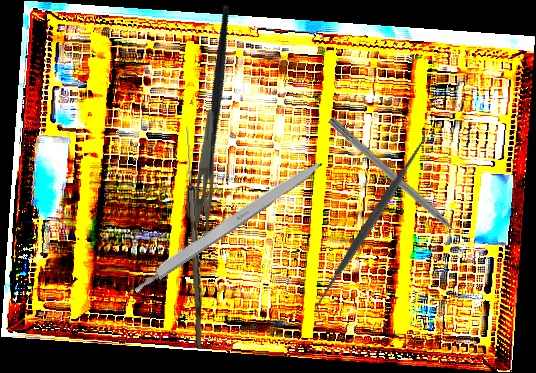Chopper: (148, 2, 293, 191)
Dressing Forceps: (191, 109, 214, 256)
Pusher: (325, 116, 477, 253)
Scalpel Handle: (128, 155, 326, 295)
Spatula Surgical: (303, 128, 438, 319)
Surgical Spoon: (181, 126, 207, 350)
